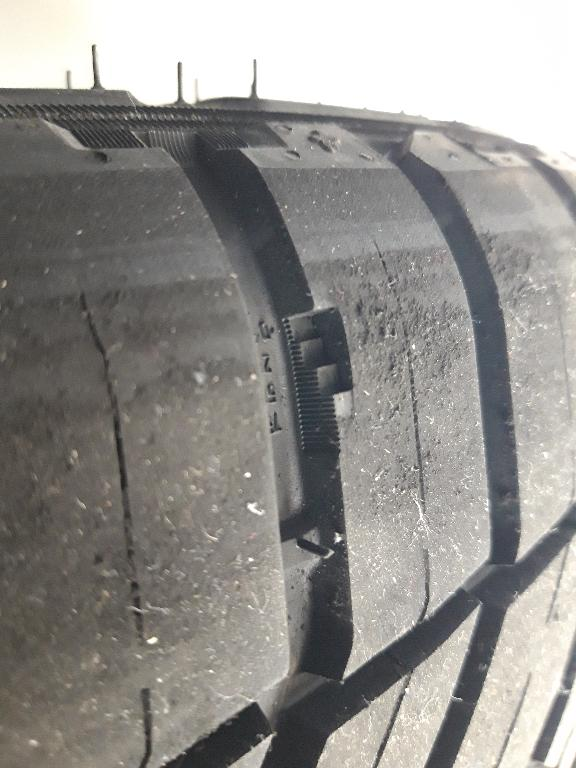temoin:75: (273, 296, 366, 432)
